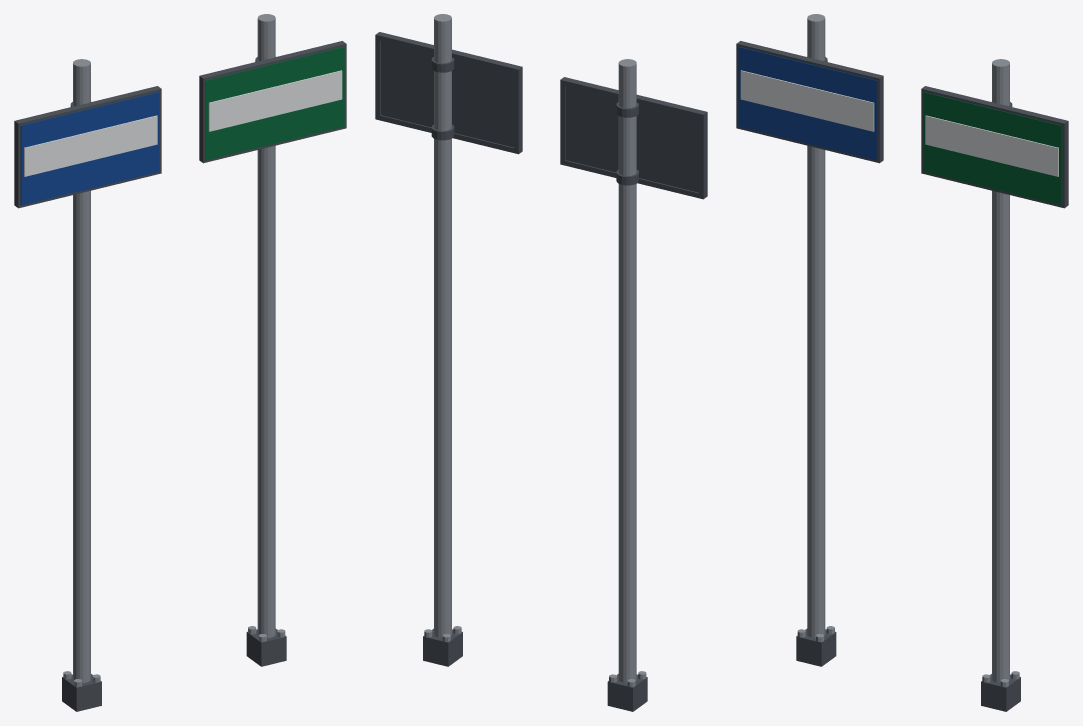
The model's file is street_sign.glb.
3 views of the same model, side by side, from view 1: azimuth 30°, elevation 25°; view 2: azimuth 150°, elevation 25°; view 3: azimuth 330°, elevation 25° (orthographic).
Parts seen in each view (by area): view 1: Sign_Info, Sign_Traffic; view 2: Sign_Traffic, Sign_Info; view 3: Sign_Traffic, Sign_Info.
Part boxes in pixels (left/top/right/bottom): Sign_Info: left=199, top=14, right=346, bottom=666; Sign_Traffic: left=14, top=59, right=161, bottom=711; Sign_Traffic: left=560, top=59, right=707, bottom=711; Sign_Info: left=375, top=14, right=522, bottom=666; Sign_Traffic: left=736, top=14, right=883, bottom=666; Sign_Info: left=921, top=59, right=1068, bottom=711.
Bounding box in the file's own units: 0.142 × 0.265 × 0.0124.
